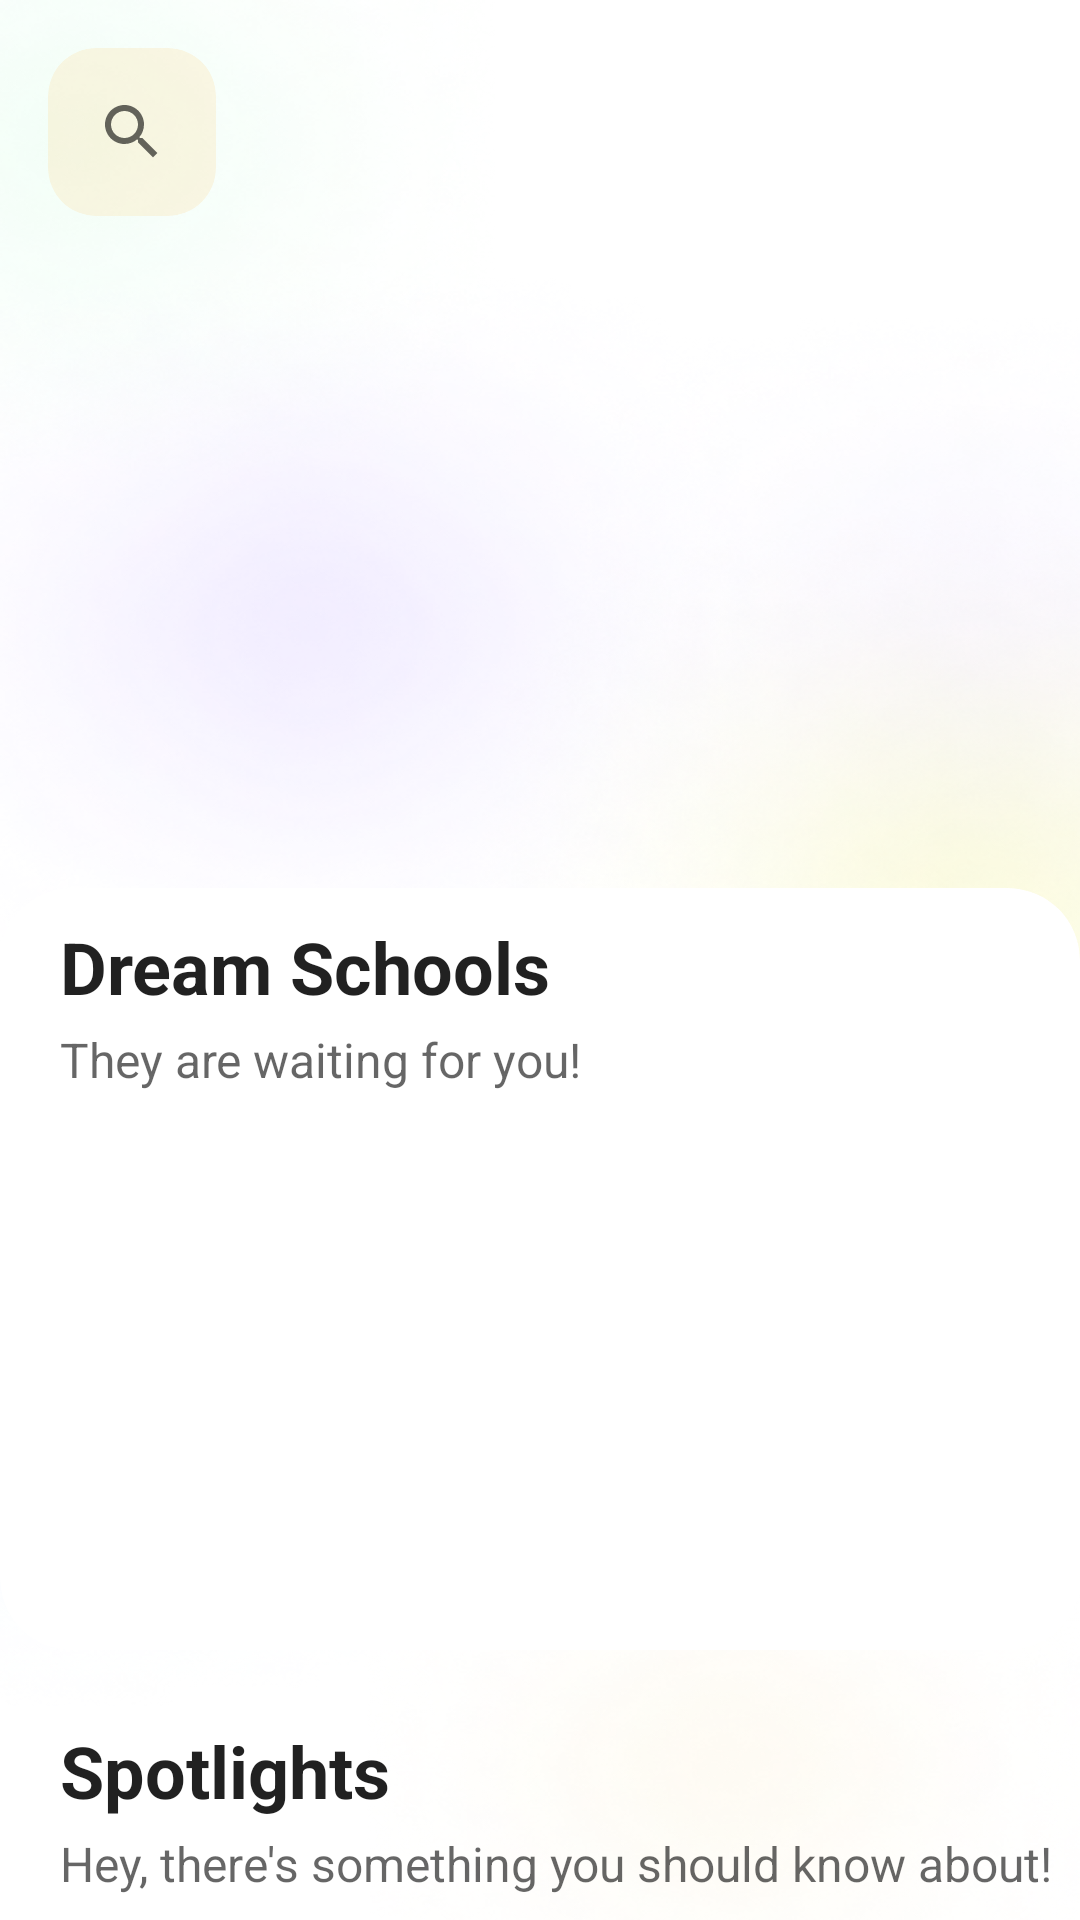

Where icons sit on this 1080px×1920px app screen, as (x1, y1, x2, y2):
search: (105, 105, 157, 157)
